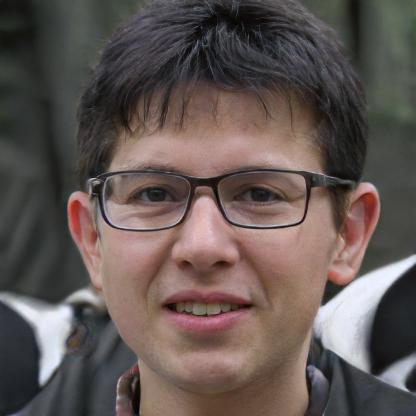glasses: (92, 165, 320, 233)
